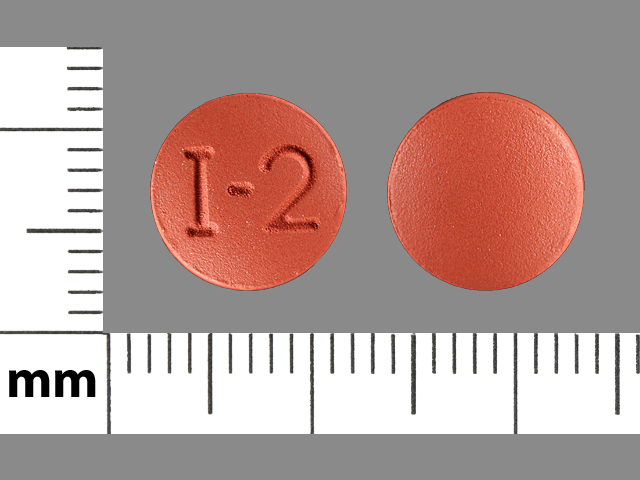Ibuprofen 200 MG Oral Tablet: (377, 85, 596, 298), (146, 87, 351, 297)
